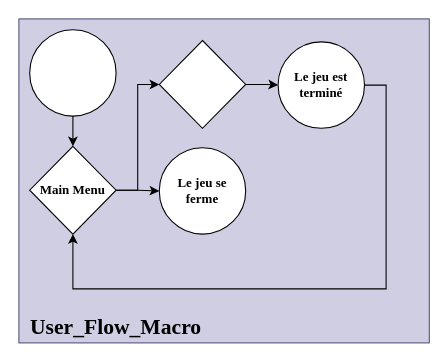
This 448x362 diagram has some shape labels left out. The centre of each missing label's shape, as x and y in pixels:
Logo "made with unity": point (72, 72)
Scène de jeu: point (202, 83)
